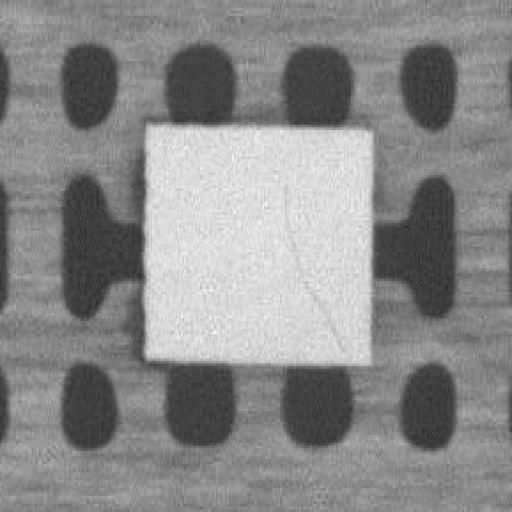DIE_CRACK: (285, 180, 337, 342)
